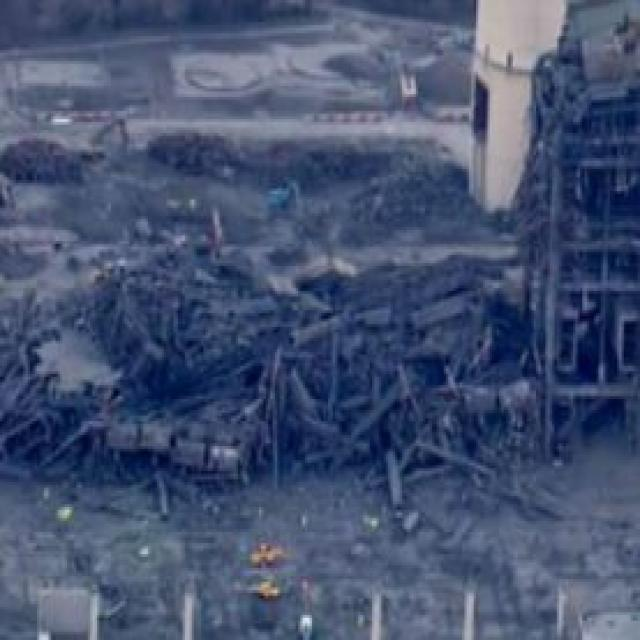collapsed_building: (0, 252, 543, 493)
